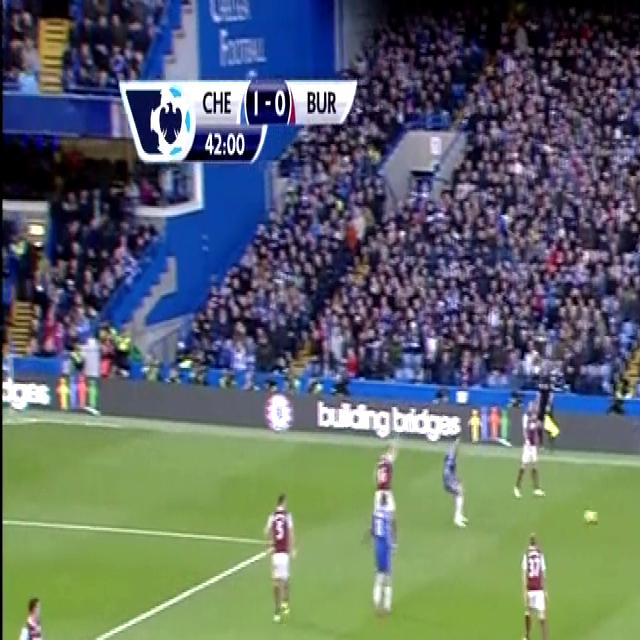ball: (583, 502, 602, 534)
referee: (531, 357, 560, 450), (627, 620, 640, 640)
soccer-player: (257, 480, 299, 629), (363, 474, 404, 620), (511, 522, 558, 640), (508, 395, 549, 509), (436, 418, 472, 538), (369, 427, 400, 523), (13, 585, 58, 640), (632, 377, 640, 491)
